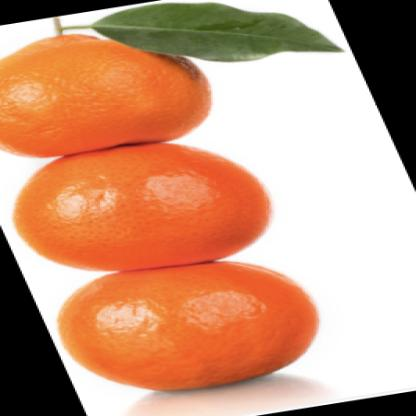fresh: (2, 39, 322, 393)
